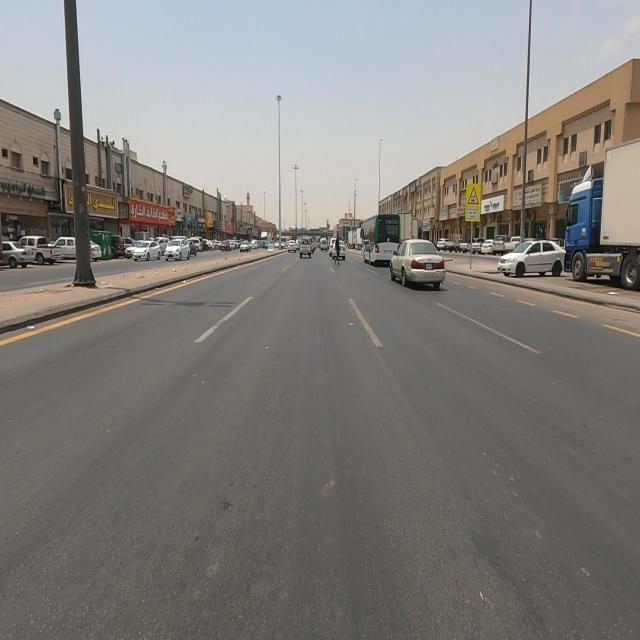debris: (491, 154, 558, 241)
